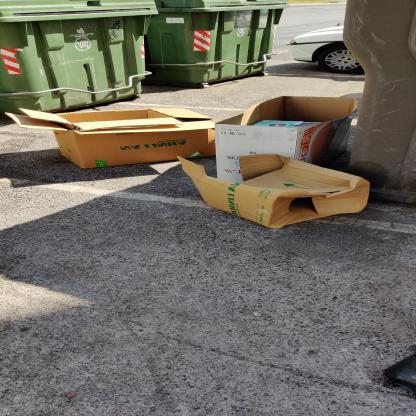karton: (178, 154, 372, 230), (214, 97, 361, 187), (5, 108, 217, 170)
